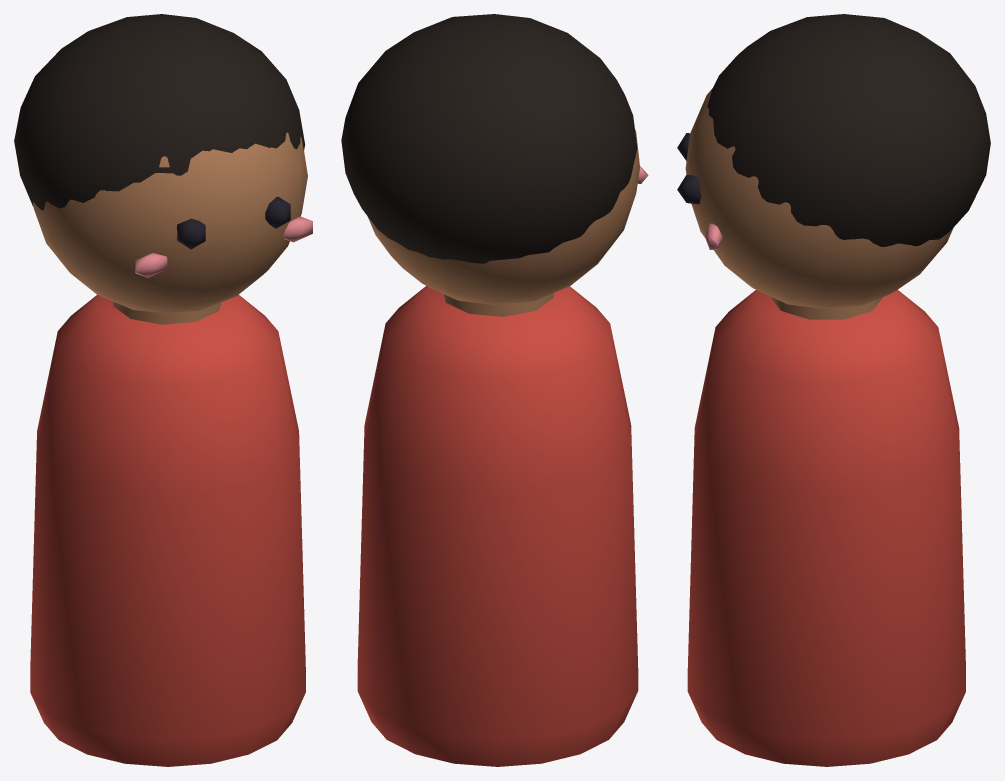
File: person_kid_b.fbx
The picture shows the model from 3 angles, left to right: view 1: azimuth 30°, elevation 25°; view 2: azimuth 150°, elevation 25°; view 3: azimuth 270°, elevation 25°; orthographic projection.
Parts seen in each view (by area): view 1: Body, Head; view 2: Body, Head; view 3: Body, Head.
Part boxes in pixels (x1,y1,x2,y2): Body: (30, 294, 305, 766); Head: (14, 14, 312, 313); Body: (357, 286, 638, 766); Head: (341, 14, 648, 304); Body: (687, 289, 965, 766); Head: (677, 14, 990, 308).
Size of the model in its own units: 0.1622 by 0.4208 by 0.1732.
